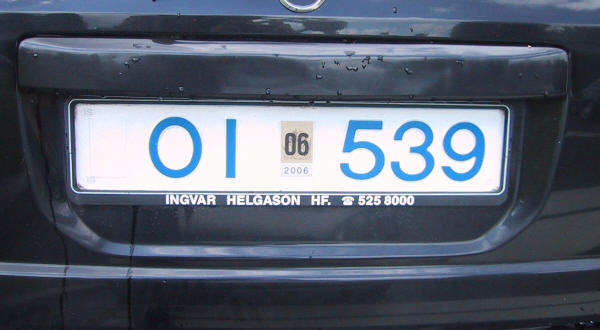license_plate: (65, 97, 512, 200)
